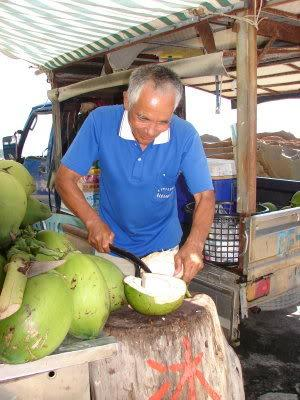person: (51, 64, 216, 288)
